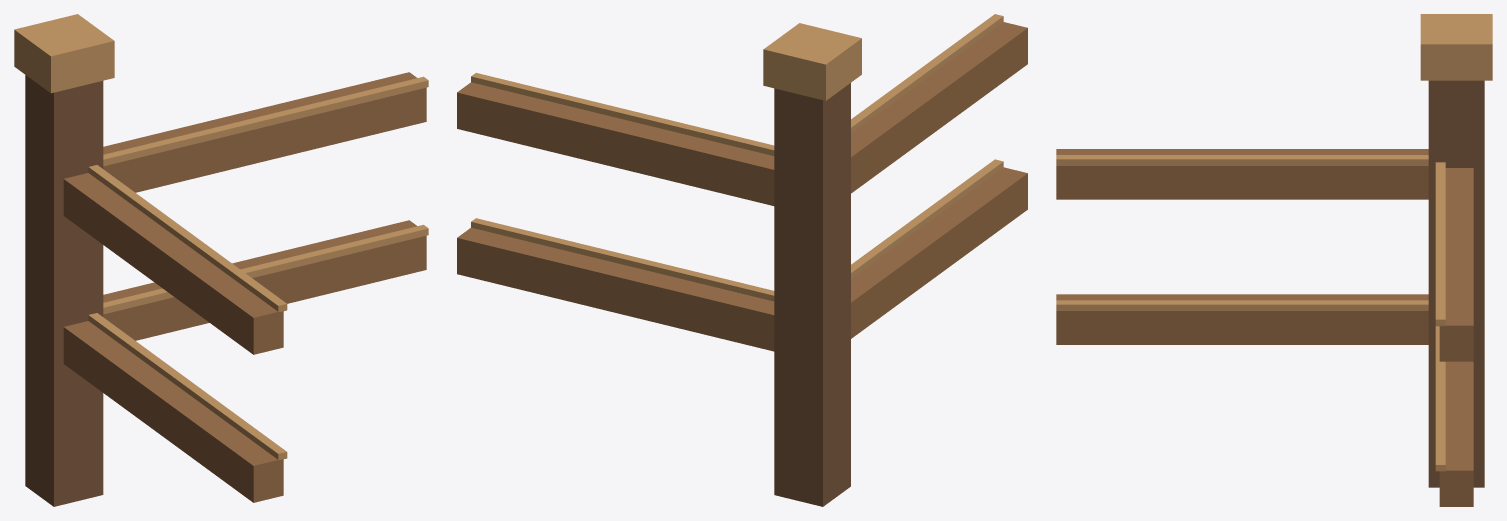
File: fence-corner.glb
The picture shows the model from 3 angles, left to right: view 1: azimuth 30°, elevation 25°; view 2: azimuth 150°, elevation 25°; view 3: azimuth 270°, elevation 25°; orthographic projection.
Parts seen in each view (by area): view 1: fence-corner_wood, fence-corner_post, fence-corner_woodLight; view 2: fence-corner_wood, fence-corner_post, fence-corner_woodLight; view 3: fence-corner_wood, fence-corner_woodLight, fence-corner_post.
Boxes of the visible parts, x1,y1,x2,y2 form: fence-corner_wood: (63,72,426,502); fence-corner_post: (25,75,103,506); fence-corner_woodLight: (14,14,428,460); fence-corner_wood: (457,22,1027,351); fence-corner_post: (774,83,850,506); fence-corner_woodLight: (471,14,1003,301); fence-corner_wood: (1056,149,1473,506); fence-corner_woodLight: (1056,14,1492,471); fence-corner_post: (1428,80,1484,487).
Size of the model in its own units: 1.09 by 1.23 by 1.09.
